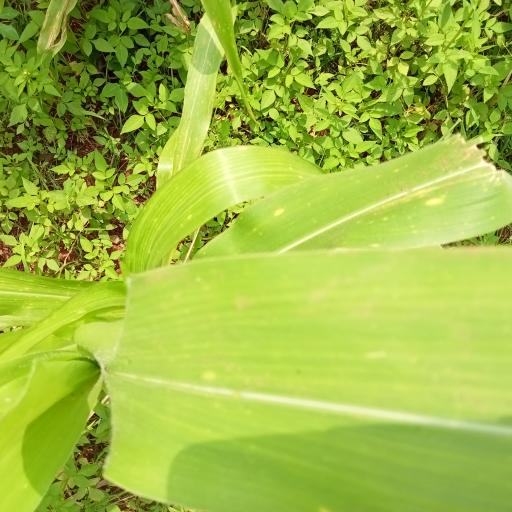Corn_Brown_Spots: (91, 144, 512, 512)
